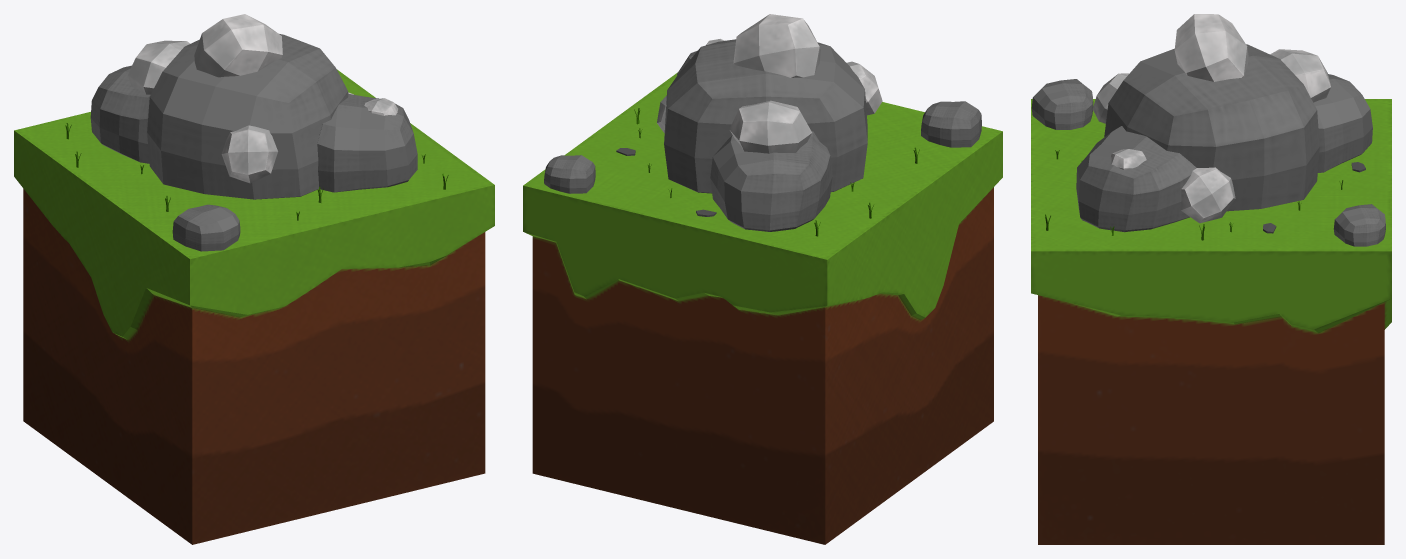
File: Concepts_15.fbx
3 renders of one model, left to right at view 1: azimuth 30°, elevation 25°; view 2: azimuth 150°, elevation 25°; view 3: azimuth 270°, elevation 25°, orthographic. The views are drawn at different scales.
Visible parts, largest first — view 1: Cube.162, Cube.004, Cube.163; view 2: Cube.162, Cube.004, Cube.163, Cube.164; view 3: Cube.162, Cube.004, Cube.163, Cube.164.
Boxes of the visible parts, box(x1,y1,x2,y2) form: Cube.162: box(14, 69, 494, 544); Cube.004: box(90, 34, 417, 251); Cube.163: box(127, 14, 397, 183); Cube.162: box(523, 72, 1002, 544); Cube.004: box(544, 39, 981, 231); Cube.163: box(657, 14, 882, 153); Cube.164: box(616, 108, 919, 236); Cube.162: box(1031, 99, 1391, 544); Cube.004: box(1031, 44, 1385, 246); Cube.163: box(1092, 14, 1330, 223); Cube.164: box(1045, 150, 1365, 240).
Size of the model in its own units: 301 by 409 by 301.
